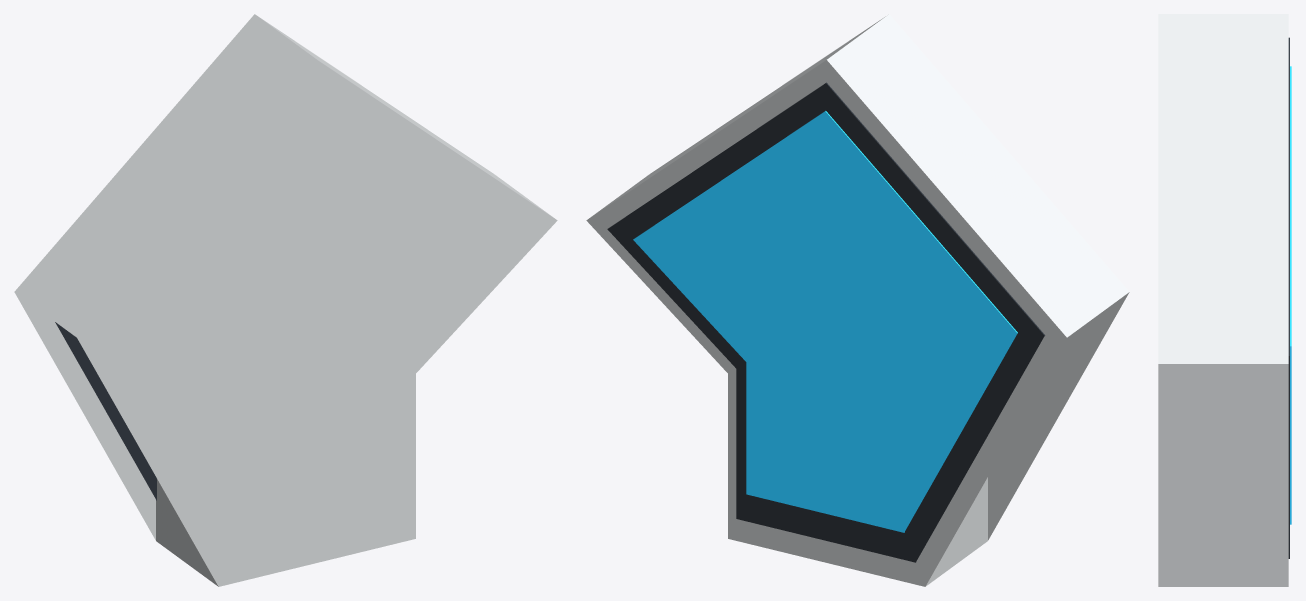
Rendered from outline-v1.glb.
The picture shows the model from 3 angles, left to right: view 1: azimuth 30°, elevation 25°; view 2: azimuth 150°, elevation 25°; view 3: azimuth 270°, elevation 25°; orthographic projection. The views are drawn at different scales.
Visible parts, largest first — view 1: directional-arrow/outline-v1; view 2: directional-arrow/outline-v1; view 3: directional-arrow/outline-v1.
Part boxes in pixels (<box>): directional-arrow/outline-v1: <box>14,14,557,586</box>; directional-arrow/outline-v1: <box>586,14,1129,586</box>; directional-arrow/outline-v1: <box>1158,14,1291,586</box>.
Bounding box in the file's own units: 0.78 × 0.78 × 0.18.
